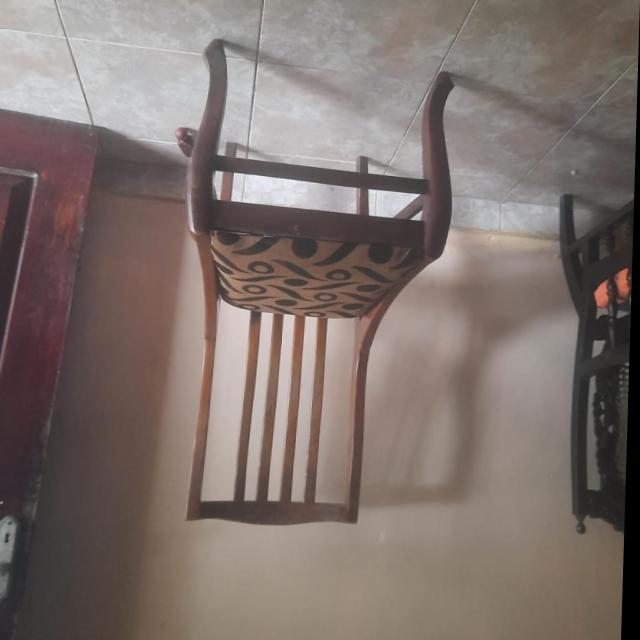Chair: (186, 39, 460, 528)
